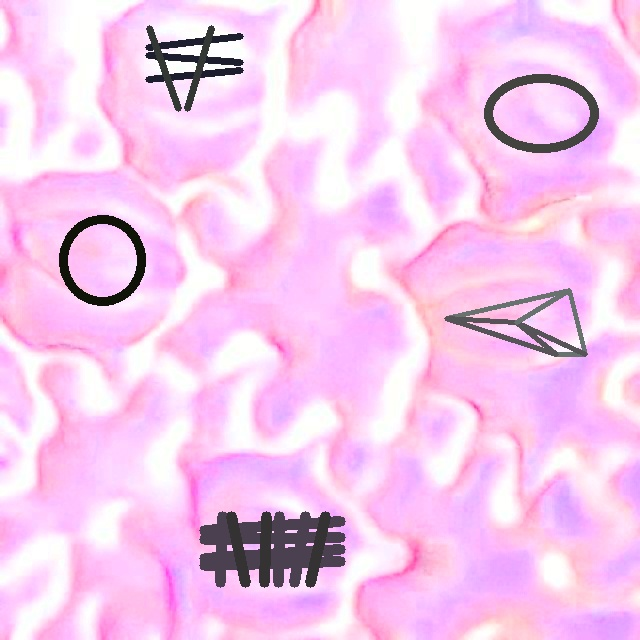close: (483, 73, 599, 153), (57, 214, 147, 306), (146, 25, 243, 110)
open: (200, 511, 345, 586), (444, 288, 587, 356)
